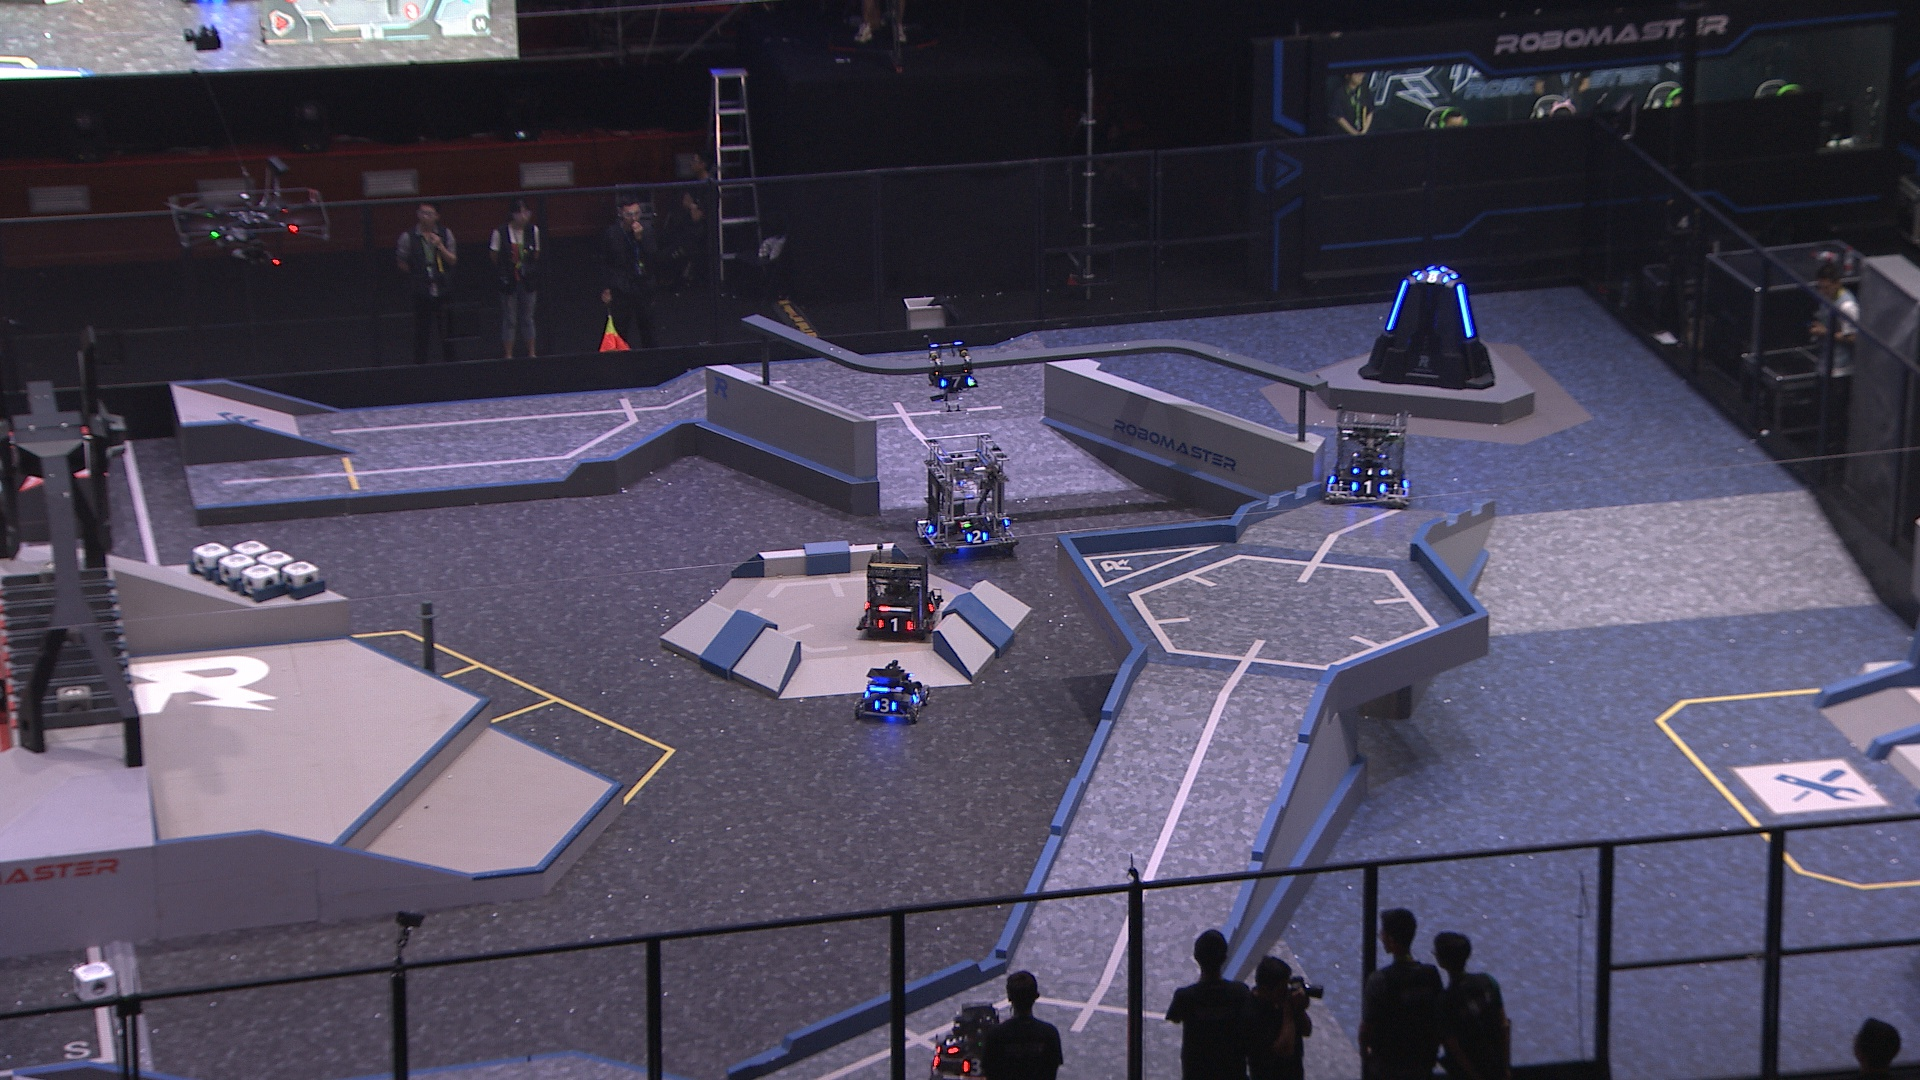armor: (1385, 277, 1410, 334), (1455, 282, 1476, 343), (876, 616, 915, 636), (1348, 477, 1386, 496), (936, 373, 975, 392), (942, 1027, 965, 1055), (1411, 270, 1455, 285), (960, 1054, 986, 1077), (1352, 463, 1390, 479), (963, 527, 989, 545), (873, 698, 899, 713), (924, 593, 942, 615), (920, 516, 936, 538), (909, 684, 924, 705), (1443, 266, 1460, 277)
base: (1360, 257, 1498, 394)
car: (910, 433, 1021, 564), (1323, 405, 1415, 510), (855, 542, 942, 641), (927, 1001, 1029, 1080), (855, 657, 930, 727)
watcher: (916, 328, 978, 413)
